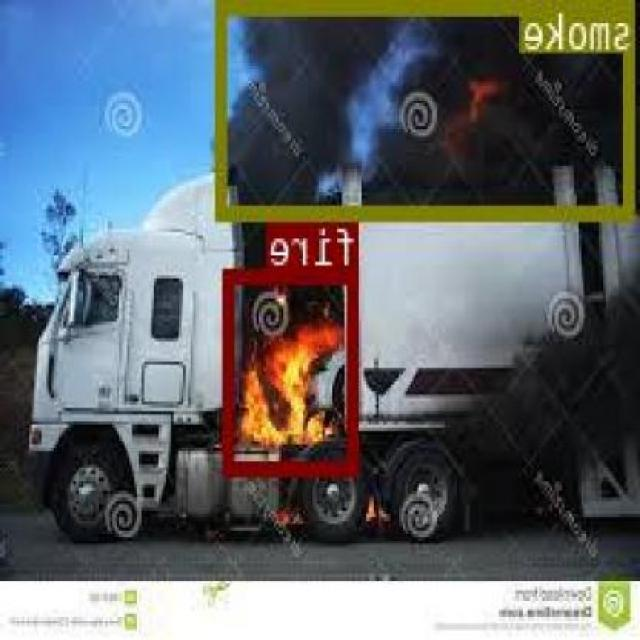Fire: (224, 268, 360, 474)
Smoke: (219, 0, 637, 215)
